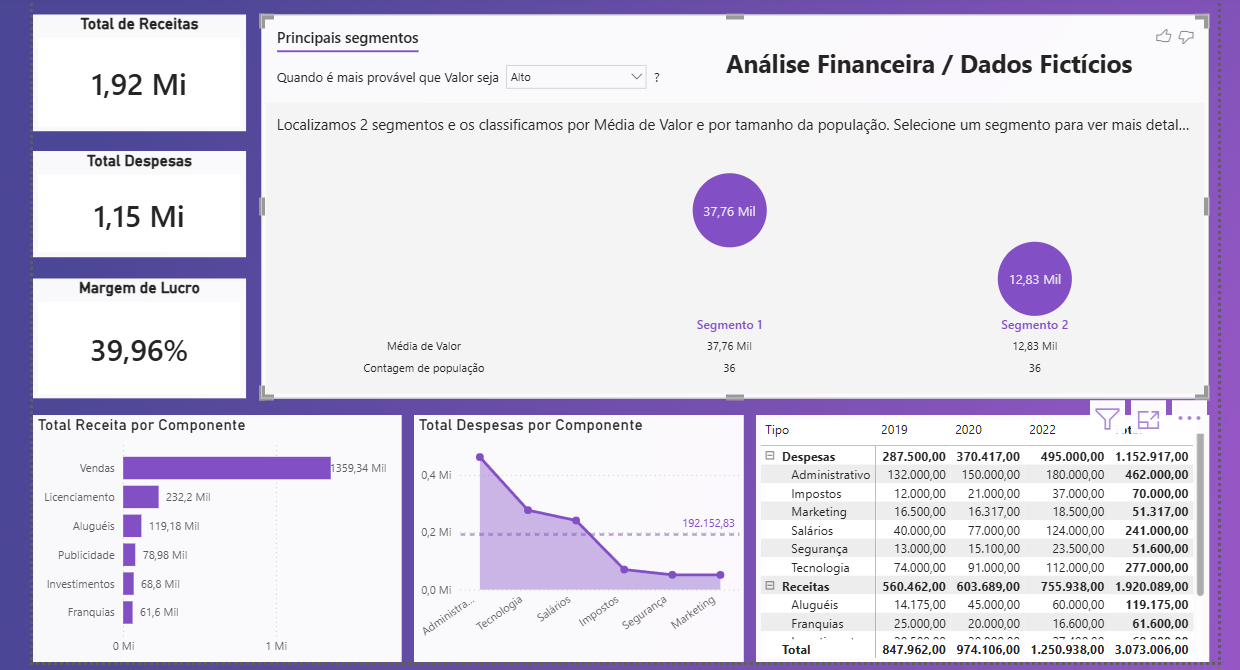

The page's visual inventory and layout, read from the dashboard file:
{"tool":"powerbi","page":{"name":"Página 1","canvas":[1280,720],"ordinal":0},"visuals":[{"type":"cardVisual","title":"Total de Receitas","fields":{"Data":["Medidas_Indicadores_financeiros.Total Receita"]},"box":[0,21,229.9,126.3],"z":0},{"type":"cardVisual","title":"Total Despesas","fields":{"Data":["Medidas_Indicadores_financeiros.Total Despesas"]},"box":[0,168.4,229.9,115],"z":1},{"type":"cardVisual","title":"Margem de Lucro","fields":{"Data":["Medidas_Indicadores_financeiros.Margem de Lucro"]},"box":[0,306,229.9,129.5],"z":2},{"type":"barChart","fields":{"Y":["Medidas_Indicadores_financeiros.Total Receita"],"Category":["DadosFinanceiros.Componente"]},"box":[0,453.4,398.3,267.2],"z":3},{"type":"areaChart","fields":{"Y":["Medidas_Indicadores_financeiros.Total Despesas"],"Category":["DadosFinanceiros.Componente"]},"box":[411.3,453.4,356.2,267.2],"z":4},{"type":"pivotTable","fields":{"Rows":["DadosFinanceiros.Tipo","DadosFinanceiros.Componente"],"Values":["Sum(DadosFinanceiros.Valor)"],"Columns":["DadosFinanceiros.Data.Variation.Hierarquia de datas.Ano"]},"box":[780.5,453.4,489,267.2],"z":5},{"type":"keyDriversVisual","fields":{"Target":["DadosFinanceiros.Valor"],"ExplainBy":["DadosFinanceiros.Tipo","DadosFinanceiros.Componente"]},"box":[246.1,21,1023.4,414.5],"z":6},{"type":"textbox","box":[686.6,50.2,561.9,66.4],"z":7}]}

Visuals, with their boxes in screenshot pixels (x1, y1, x2, y2):
"Total de Receitas" cardVisual: detection(29, 16, 240, 132)
"Total Despesas" cardVisual: detection(29, 151, 240, 256)
"Margem de Lucro" cardVisual: detection(29, 277, 240, 395)
barChart - Medidas_Indicadores_financeiros.Total Receita x DadosFinanceiros.Componente: detection(29, 412, 394, 657)
areaChart - Medidas_Indicadores_financeiros.Total Despesas x DadosFinanceiros.Componente: detection(406, 412, 732, 657)
pivotTable - DadosFinanceiros.Tipo x DadosFinanceiros.Componente: detection(744, 412, 1191, 657)
keyDriversVisual - DadosFinanceiros.Valor x DadosFinanceiros.Tipo: detection(254, 16, 1191, 395)
textbox: detection(658, 43, 1172, 104)
